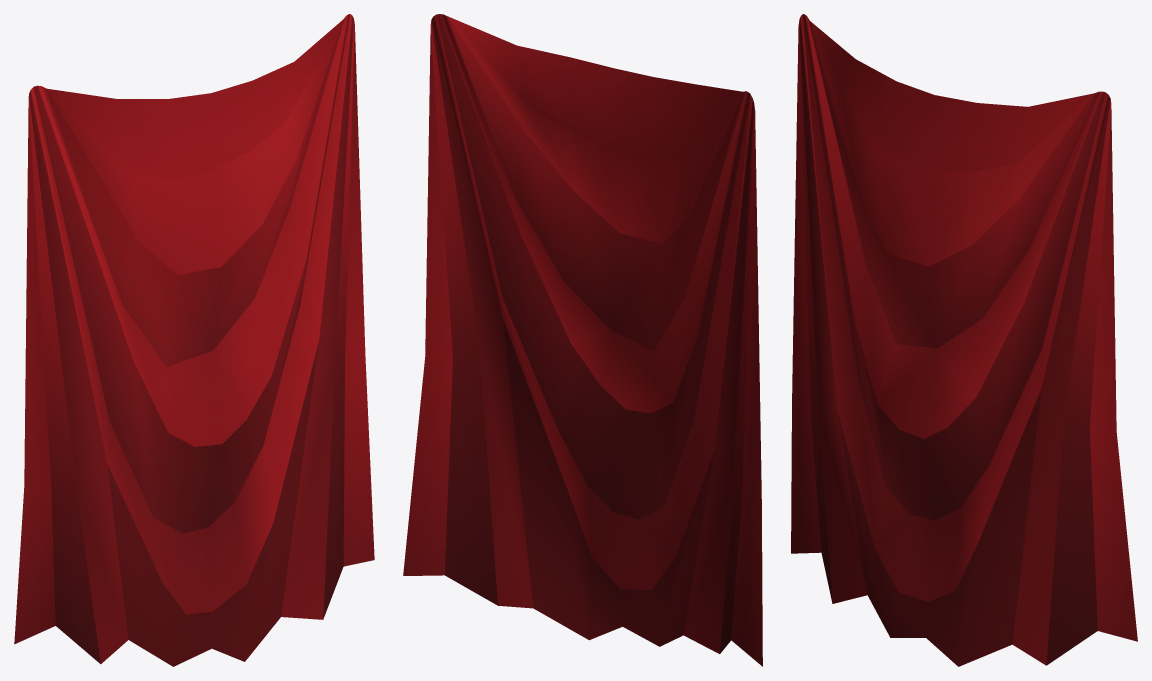
File: orc_flag_red.fbx
3 views of the same model, side by side, from view 1: azimuth 30°, elevation 25°; view 2: azimuth 150°, elevation 25°; view 3: azimuth 330°, elevation 25° (orthographic). The views are drawn at different scales.
Visible parts, largest first — view 1: orc_flag_red; view 2: orc_flag_red; view 3: orc_flag_red.
Part boxes in pixels (x1,y1,x2,y2): orc_flag_red: [14, 14, 374, 666]; orc_flag_red: [403, 14, 762, 666]; orc_flag_red: [791, 14, 1137, 666].
Bounding box in the file's own units: 198 × 319 × 34.86.
